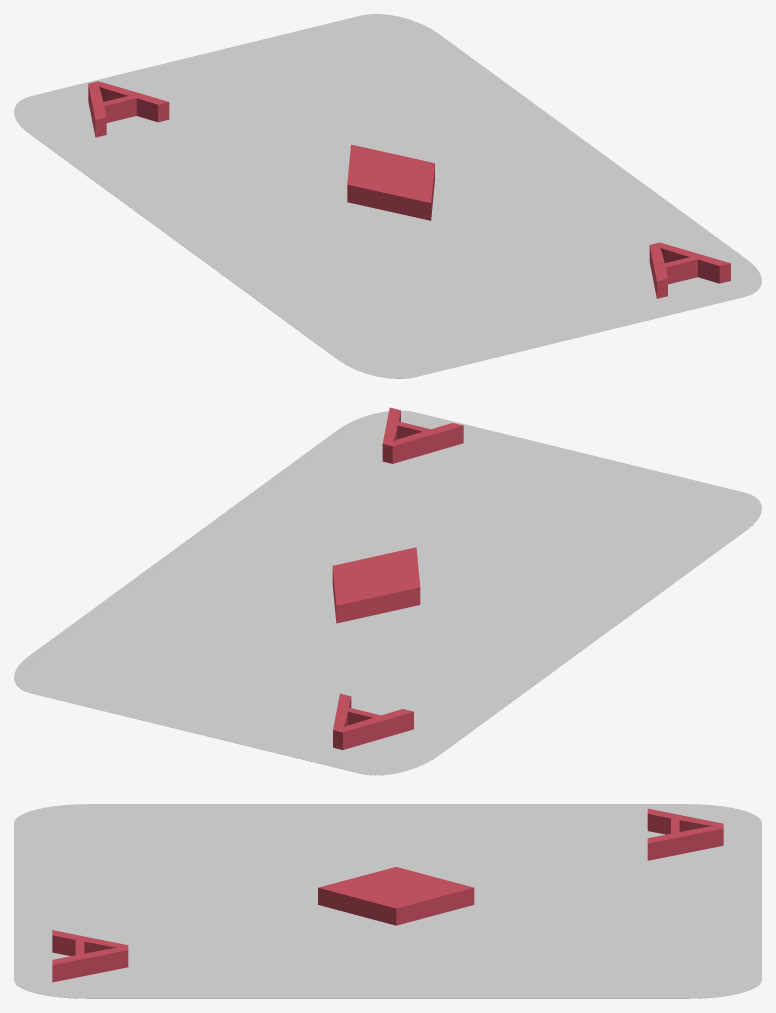
File: ace_diamonds.glb
3 views of the same model, one above another, from view 1: azimuth 30°, elevation 25°; view 2: azimuth 150°, elevation 25°; view 3: azimuth 270°, elevation 25° (orthographic). The views are drawn at different scales.
Parts seen in each view (by area): view 1: Mesh_Mesh_head_geo.001_lambert2SG.001; view 2: Mesh_Mesh_head_geo.001_lambert2SG.001; view 3: Mesh_Mesh_head_geo.001_lambert2SG.001.
Boxes of the visible parts, left/top/right/bottom form: Mesh_Mesh_head_geo.001_lambert2SG.001: left=14, top=14, right=761, bottom=378; Mesh_Mesh_head_geo.001_lambert2SG.001: left=14, top=407, right=761, bottom=775; Mesh_Mesh_head_geo.001_lambert2SG.001: left=14, top=804, right=761, bottom=998.
Size of the model in its own units: 24 by 1 by 39.
